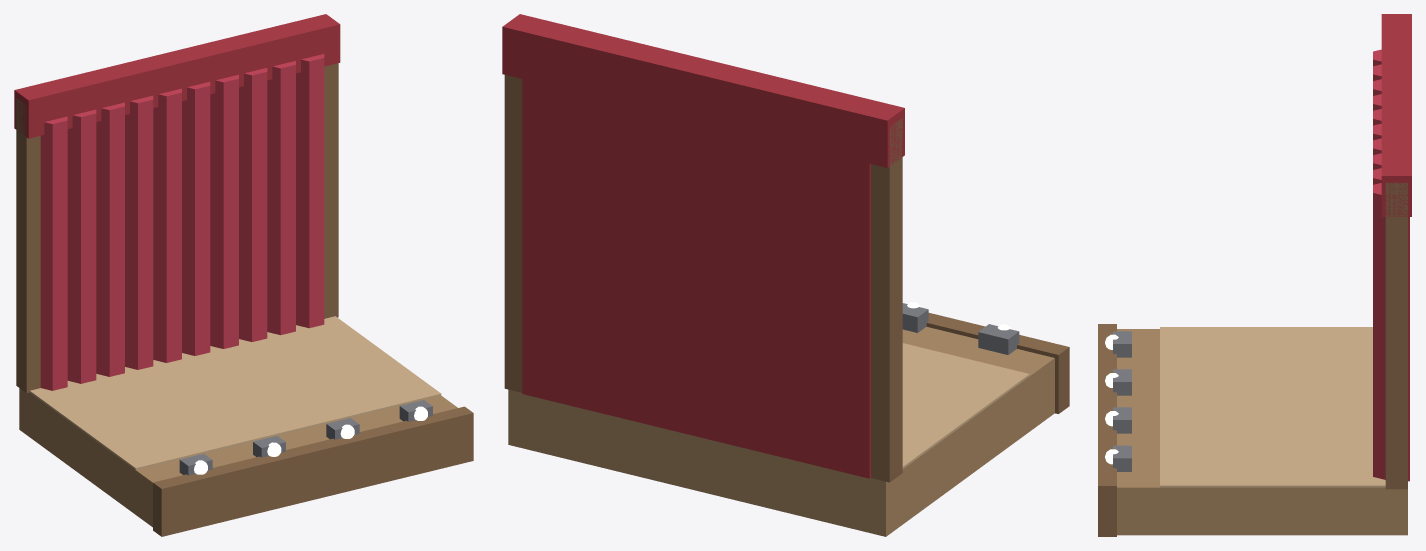
Rendered from buehne.glb.
The picture shows the model from 3 angles, left to right: view 1: azimuth 30°, elevation 25°; view 2: azimuth 150°, elevation 25°; view 3: azimuth 270°, elevation 25°; orthographic projection. The views are drawn at different scales.
Visible parts, largest first — view 1: holz_dunkel_1, rot_dunkel_9, holz_0, vorhang_12, vorhang_14, vorhang_20, vorhang_13, vorhang_16, vorhang_17, vorhang_18, vorhang_15, vorhang_19 (+8 smaller); view 2: rot_dunkel_10, holz_0, rot_dunkel_9, holz_dunkel_7, holz_hell_2, holz_dunkel_8, holz_dunkel_1, holz_hell_3, metall_dunkel_21; view 3: holz_0, holz_hell_6, holz_dunkel_8, holz_hell_3, holz_hell_2, holz_hell_4, holz_hell_5, rot_dunkel_9, vorhang_20, holz_dunkel_1, rot_dunkel_10, metall_dunkel_27 (+3 smaller).
Part boxes in pixels (x1,y1,x2,y2): holz_dunkel_1: (153,406,473,536); rot_dunkel_9: (14,14,340,138); holz_0: (19,388,457,527); vorhang_12: (67,109,96,383); vorhang_14: (125,95,153,369); vorhang_20: (296,54,324,328); vorhang_13: (96,102,124,376); vorhang_16: (182,82,210,355); vorhang_17: (210,74,238,348); vorhang_18: (239,68,267,341); vorhang_15: (153,88,181,362); vorhang_19: (267,61,295,335); rot_dunkel_10: (522,79,870,478); holz_0: (508,326,1054,536); rot_dunkel_9: (502,14,904,167); holz_dunkel_7: (871,118,902,482); holz_hell_2: (902,355,1029,468); holz_dunkel_8: (504,75,522,392); holz_dunkel_1: (926,313,1069,413); holz_hell_3: (902,343,953,392); metall_dunkel_21: (978,324,1019,354); holz_0: (1117,329,1407,535); holz_hell_6: (1160,454,1385,487); holz_dunkel_8: (1385,182,1407,489); holz_hell_3: (1160,358,1372,390); holz_hell_2: (1160,327,1372,358); holz_hell_4: (1160,390,1372,421); holz_hell_5: (1160,422,1372,453); rot_dunkel_9: (1381,14,1411,216); vorhang_20: (1373,183,1385,479); holz_dunkel_1: (1098,324,1116,536); rot_dunkel_10: (1408,217,1409,481); metall_dunkel_27: (1113,445,1131,471).
Size of the model in its own units: 1.02 by 1.06 by 0.835.
